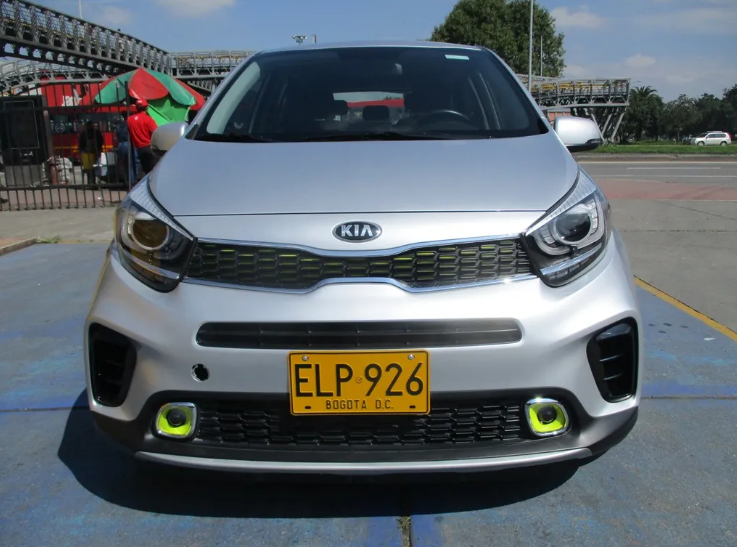placa: (288, 352, 428, 416)
